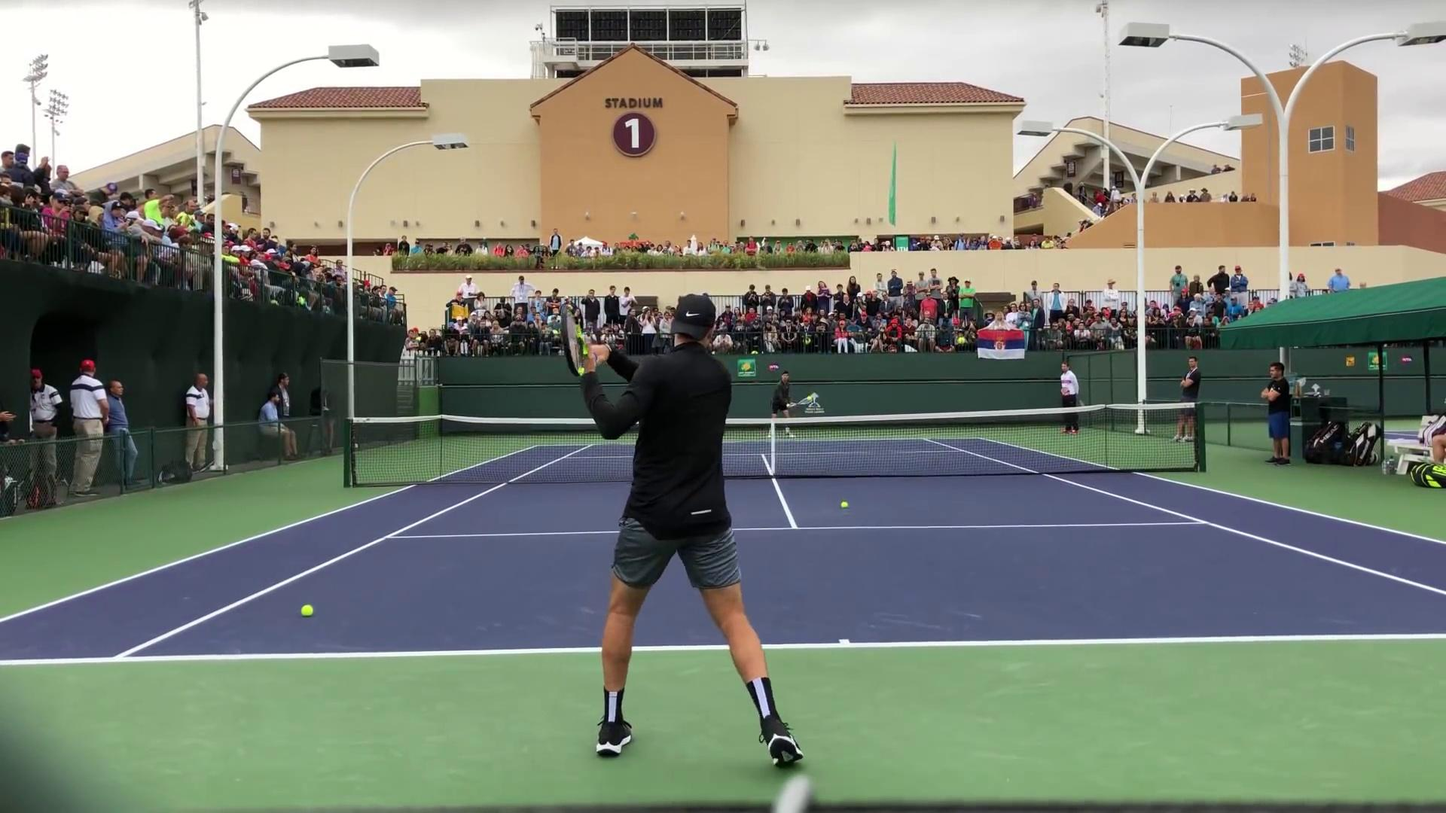ball: (300, 604, 313, 617), (839, 501, 849, 508)
